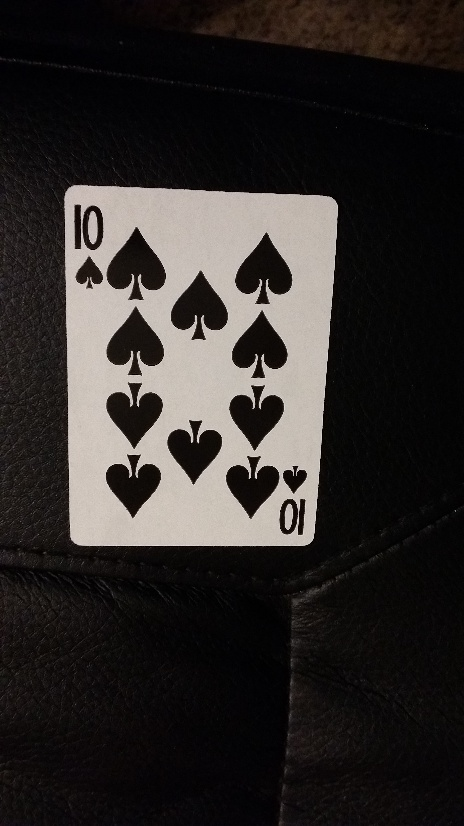S10: (69, 196, 106, 293), (278, 456, 311, 540)
